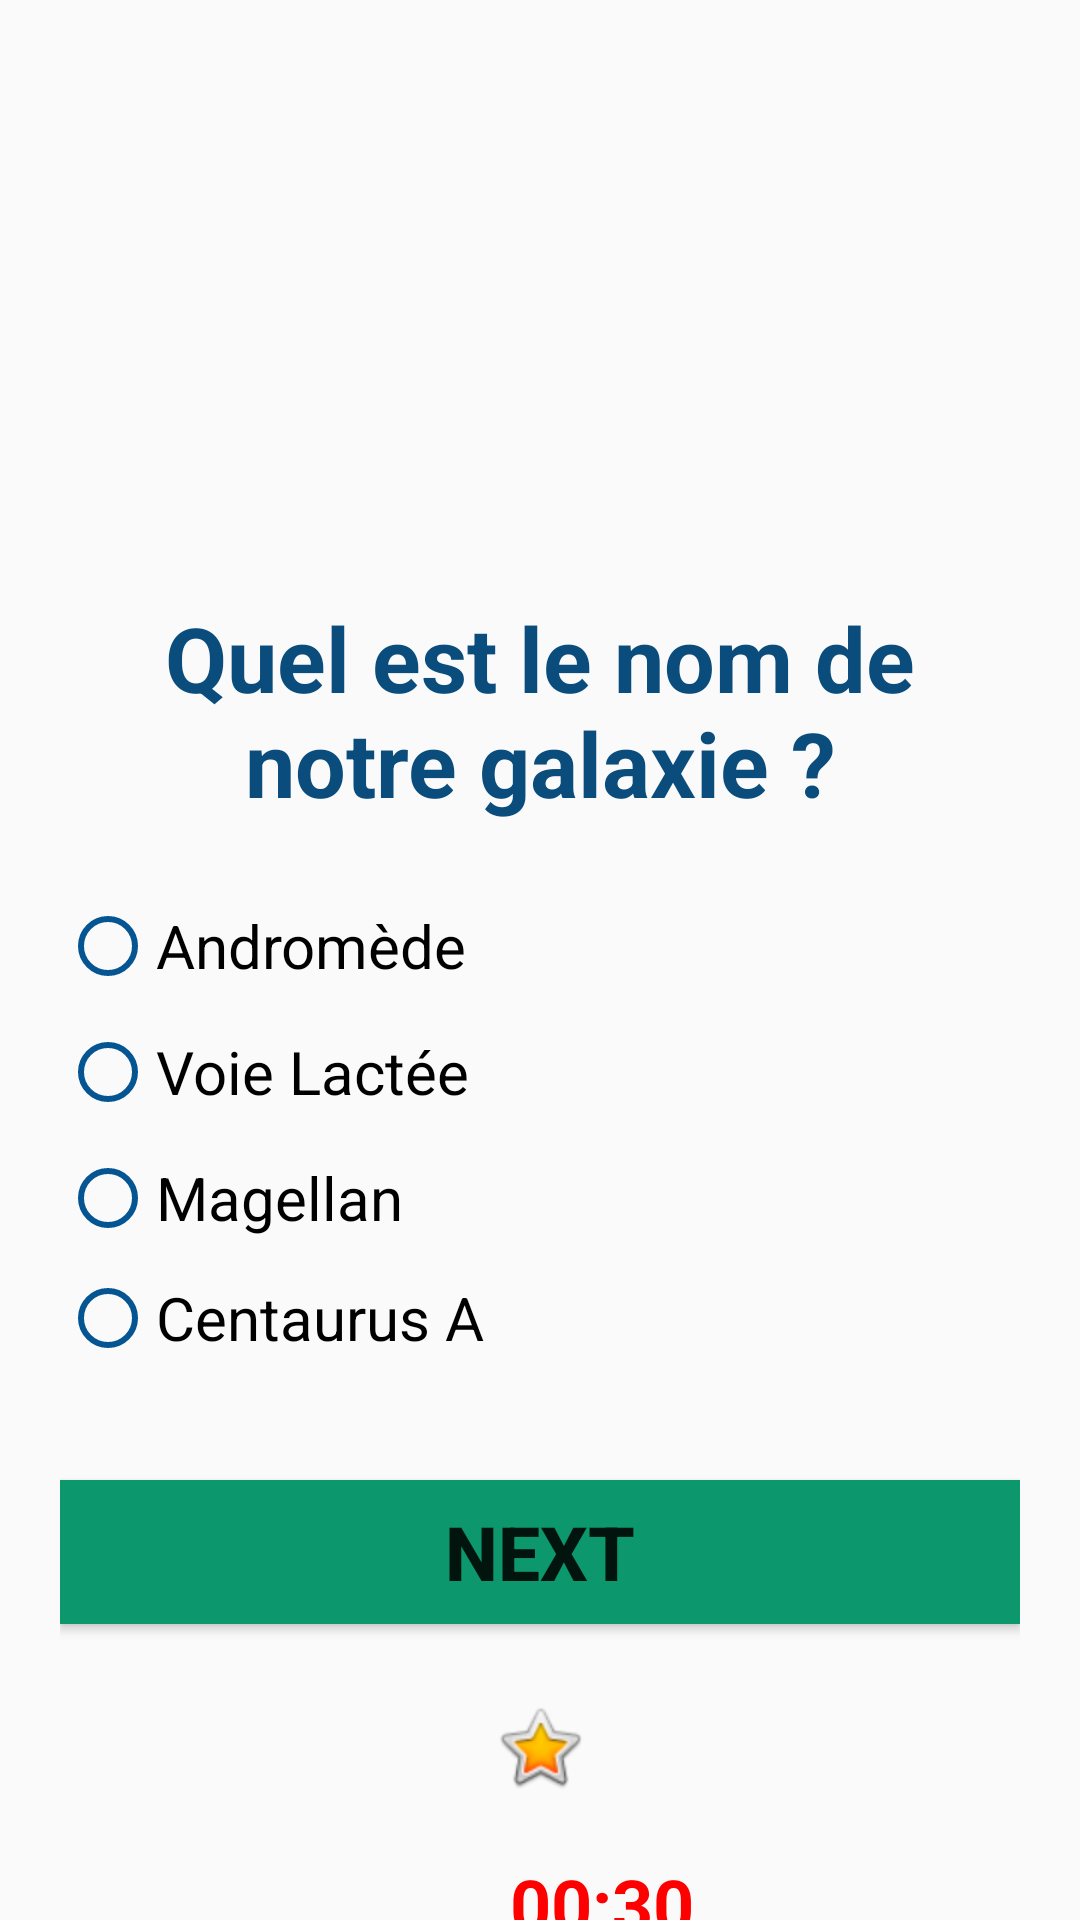

Locate icon controls on the screen. Image size 1080x1920, boxes as (x1, y1, x2, y2).
star on: (501, 1709, 581, 1787)
